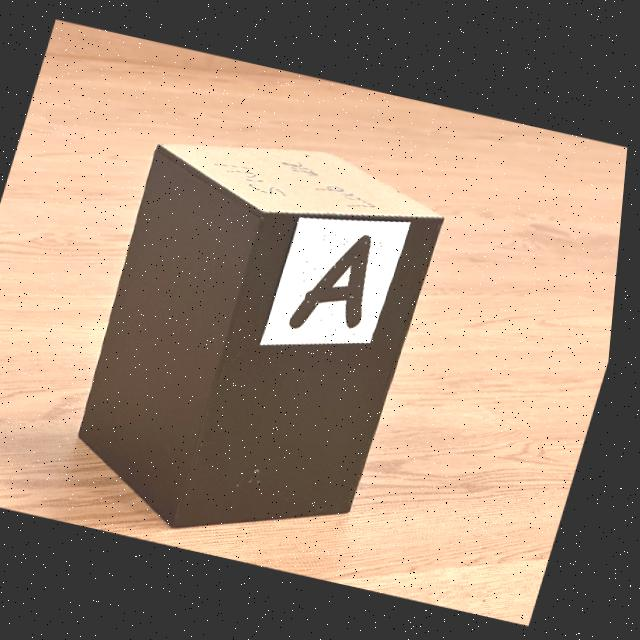A: (294, 234, 375, 328)
